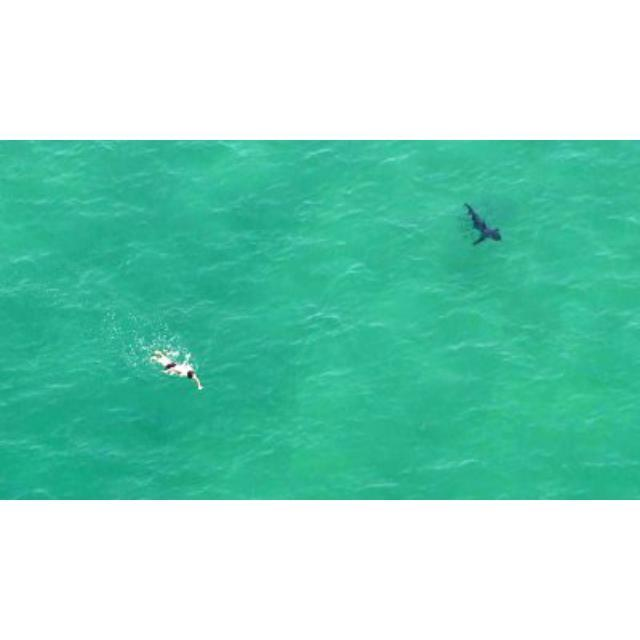human: (150, 349, 207, 393)
